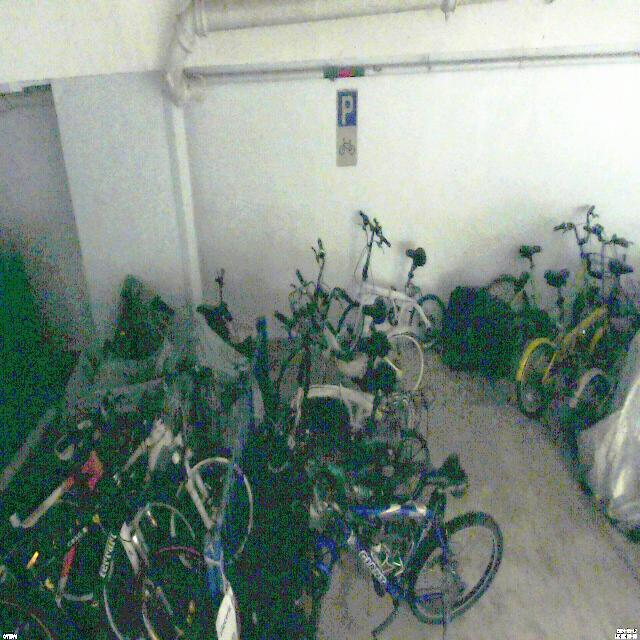bike: (285, 239, 426, 402), (332, 209, 439, 349)
